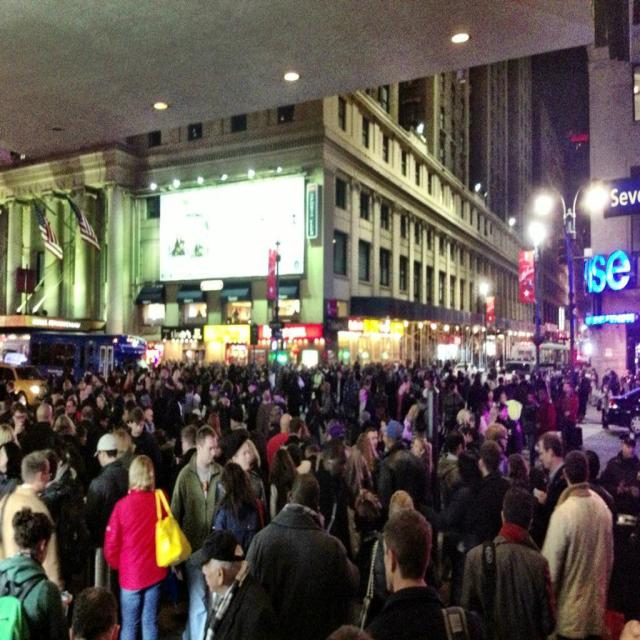body: (1, 335, 640, 484), (238, 467, 361, 639), (99, 448, 192, 640), (460, 485, 560, 640), (539, 449, 614, 640), (362, 506, 448, 640), (171, 425, 225, 627), (188, 526, 281, 640), (355, 487, 418, 634), (0, 506, 66, 640), (0, 449, 61, 588), (80, 432, 130, 546), (212, 460, 264, 559), (528, 429, 569, 551), (60, 582, 124, 638), (599, 430, 640, 499), (322, 619, 372, 639), (612, 611, 636, 639)
